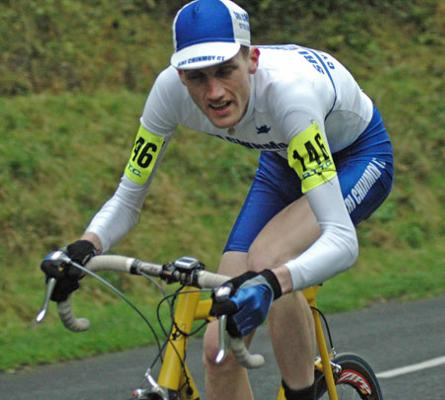person: (43, 2, 395, 400)
